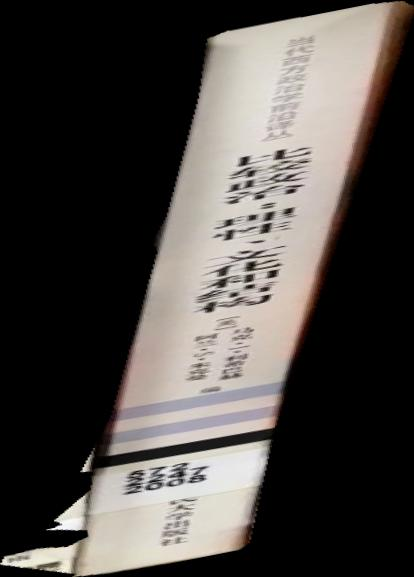book: (1, 1, 414, 577)
